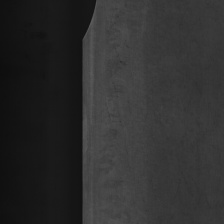crescent_gap: (77, 0, 108, 52)
